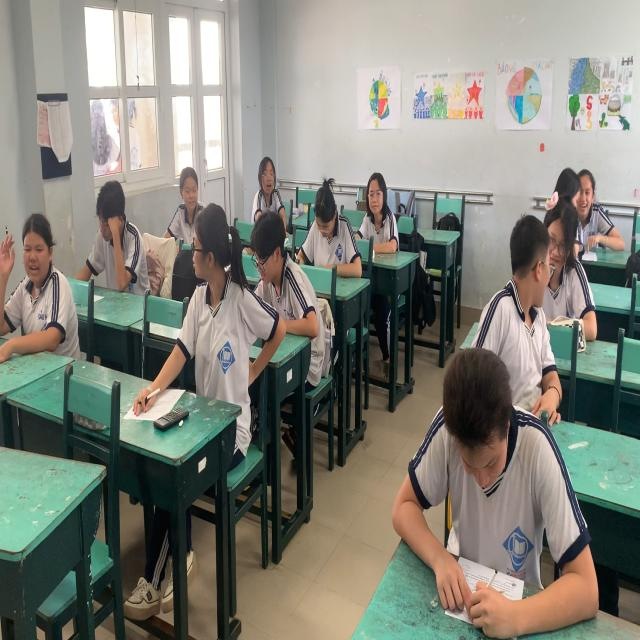cheating: (490, 216, 558, 403), (185, 199, 253, 371)
not_cheating: (422, 348, 559, 595), (2, 206, 76, 348), (239, 206, 306, 324), (85, 176, 146, 298), (300, 170, 361, 276), (546, 161, 611, 229), (354, 166, 398, 262), (246, 150, 291, 219), (167, 163, 207, 223)
